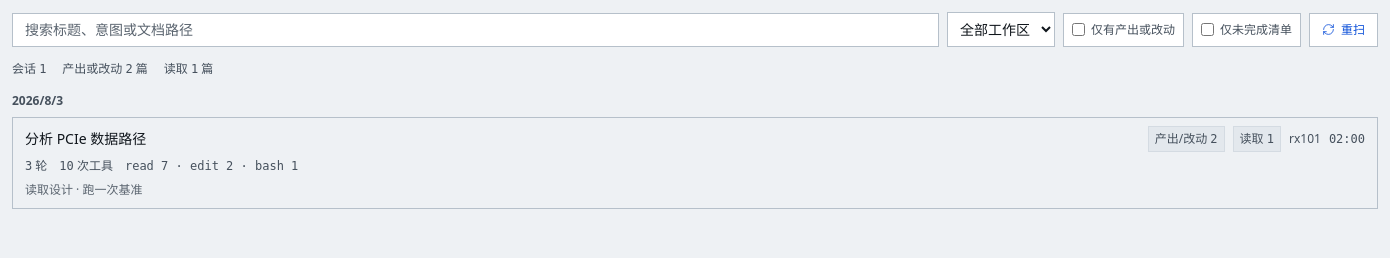
Test case: SessionsPanel › surfaces a rescan failure with the server message
The image size is (1390, 258).
Expected: the text "分析 PCIe 数据路径" is shown, [25,129,146,148]
Click the button with test id "sessions-refresh" at (1344, 30), box [1309,12,1378,46]
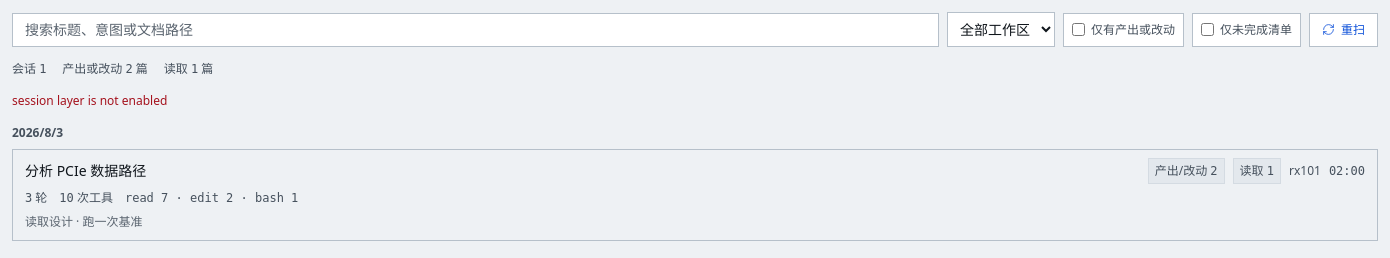
Now the message reads "session layer is not enabled", box [12,92,167,109]
